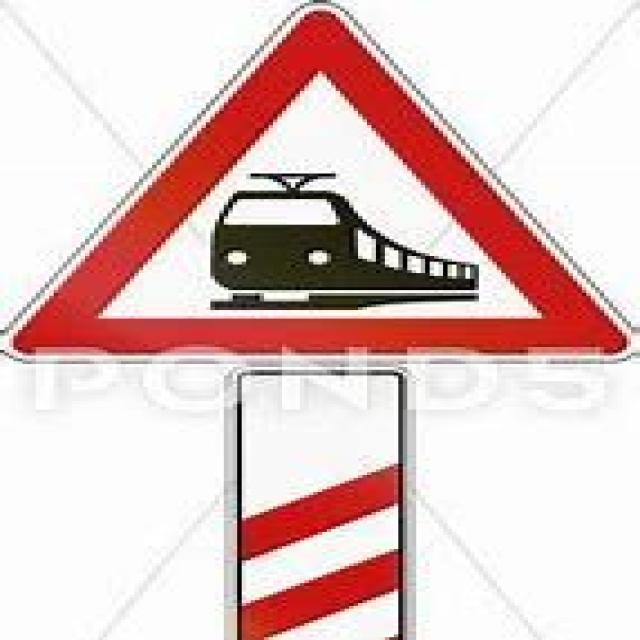unguarded level crossing: (41, 29, 603, 360)
